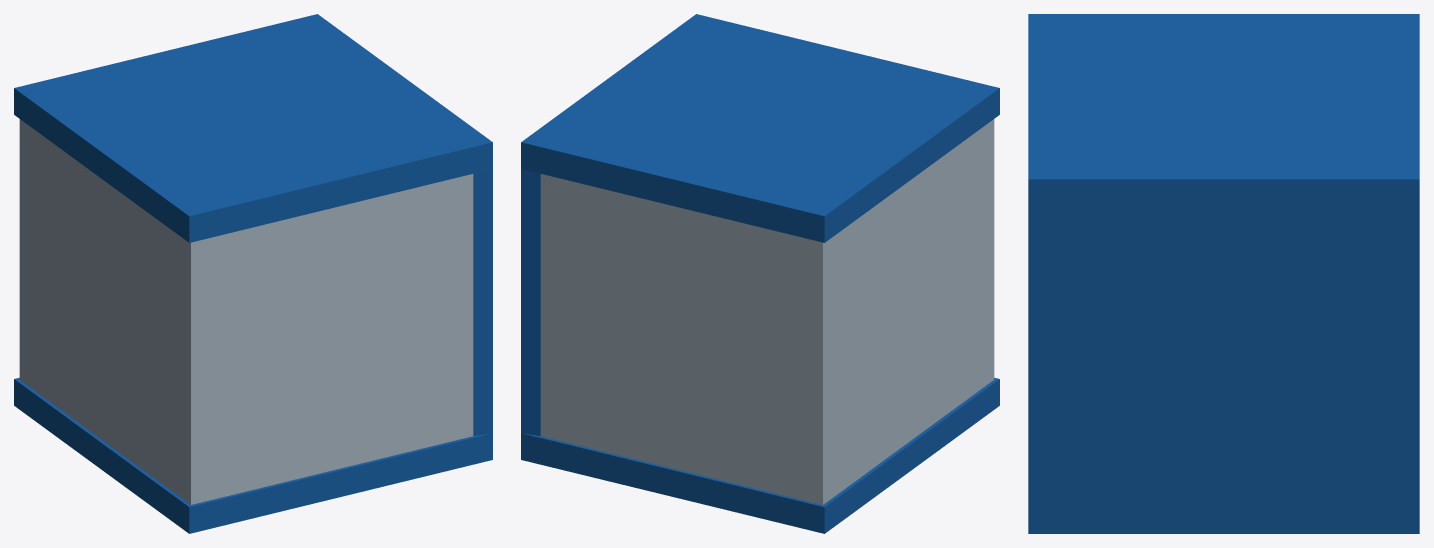
File: book.glb
The picture shows the model from 3 angles, left to right: view 1: azimuth 30°, elevation 25°; view 2: azimuth 150°, elevation 25°; view 3: azimuth 270°, elevation 25°; orthographic projection. The views are drawn at different scales.
Parts seen in each view (by area): view 1: pages_fitted, lower_cover_fitted; view 2: pages_fitted, lower_cover_fitted; view 3: lower_cover_fitted.
Part boxes in pixels (<box>): pages_fitted: <box>19,119,473,504</box>; lower_cover_fitted: <box>14,14,492,533</box>; pages_fitted: <box>540,119,994,504</box>; lower_cover_fitted: <box>521,14,999,533</box>; lower_cover_fitted: <box>1028,14,1419,533</box>.
Bounding box in the file's own units: 1 × 1 × 1.
